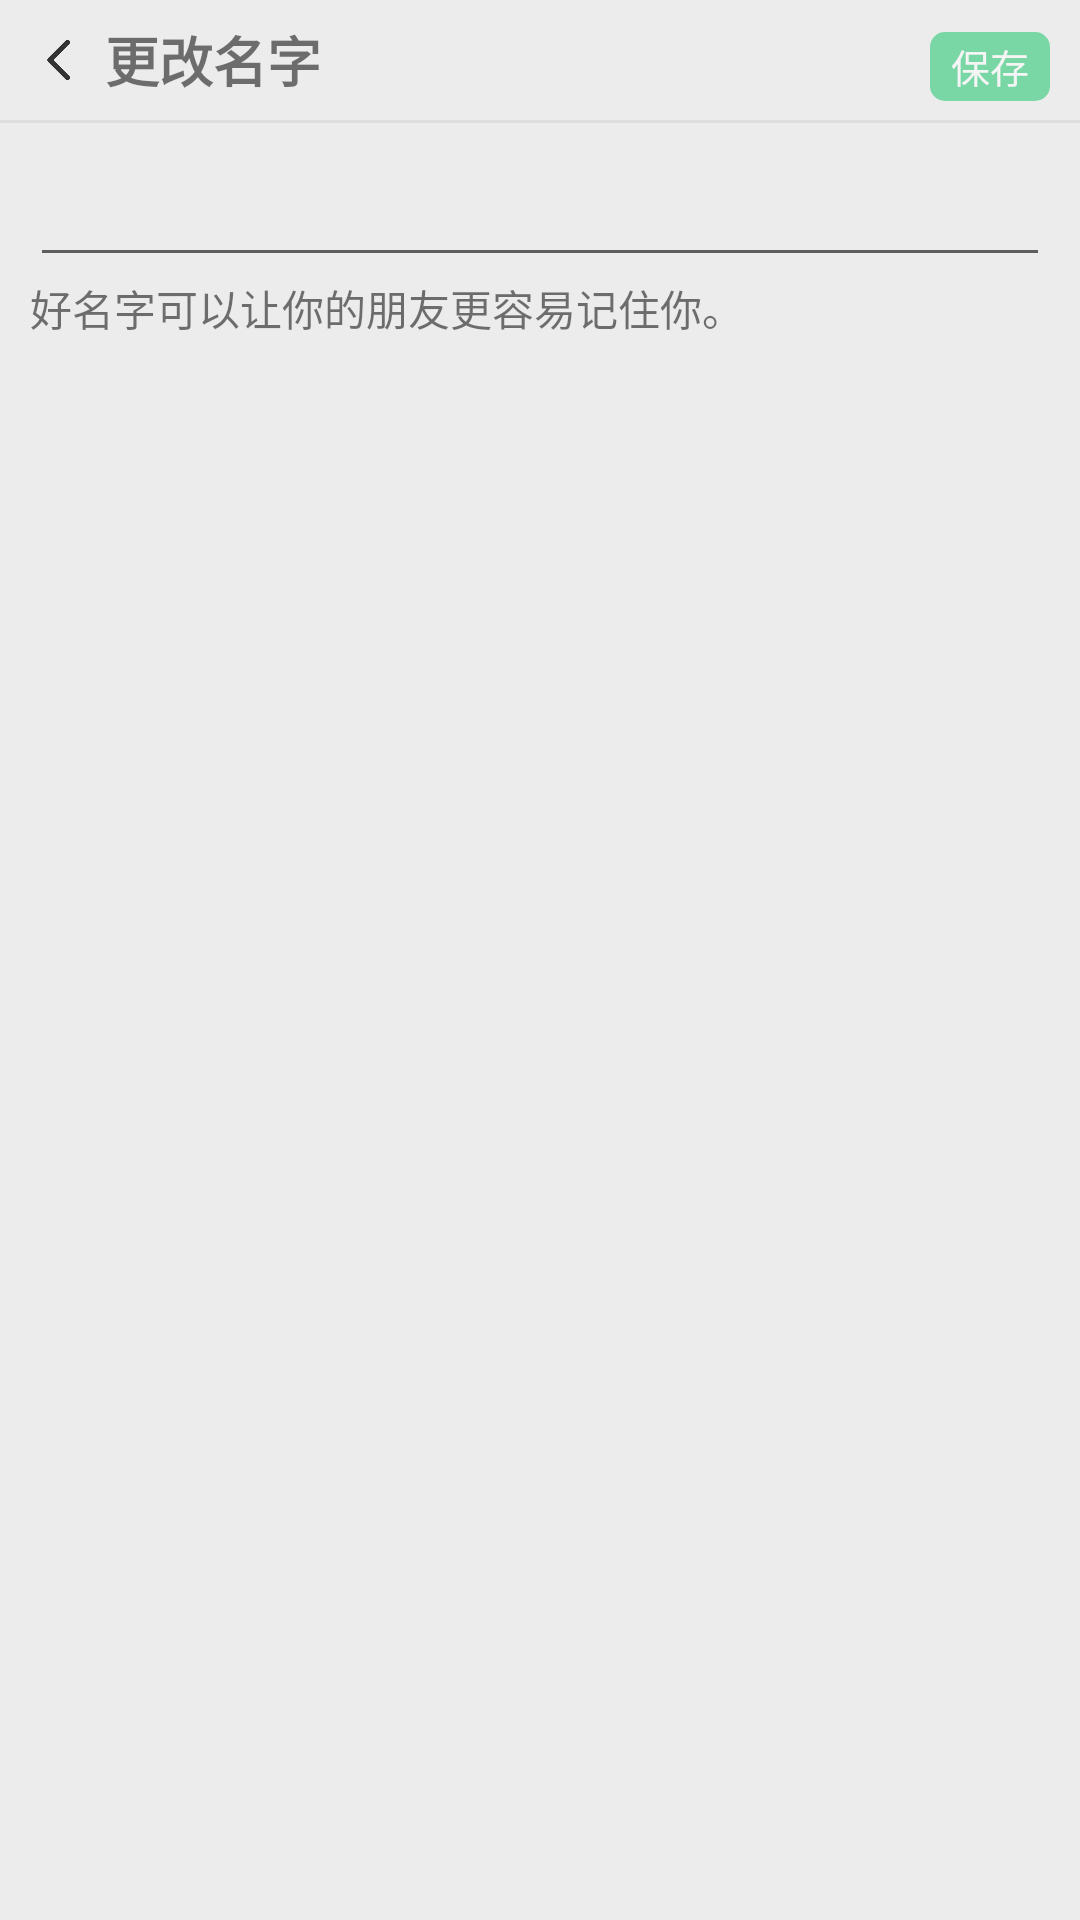

Point at icon controls on the screen. Image size 1080*1920, points as (x=x, y=y).
back: (x=58, y=60)
